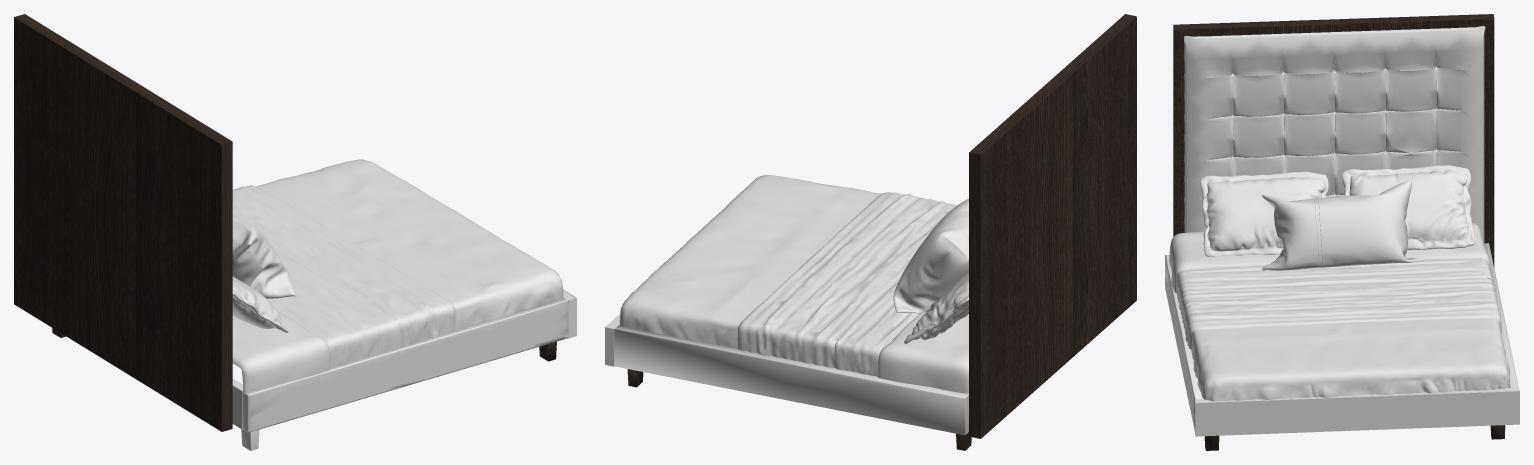
Rendered from sf_2bd3fcc82c9f.glb.
3 renders of one model, left to right at view 1: azimuth 30°, elevation 25°; view 2: azimuth 150°, elevation 25°; view 3: azimuth 270°, elevation 25°, orthographic. The views are drawn at different scales.
Visible parts, largest first — view 1: Cube_5_Wood 17_1, Box019_Mat.2_0, Box007_FABRIC_sofa_0; view 2: Box019_Mat.2_0, Cube_5_Wood 17_1, Box007_FABRIC_sofa_0; view 3: Box019_Mat.2_0, Plane001_001_1_FABRIC_sofa_1, Box007_FABRIC_sofa_0, Cube_5_Wood 17_1.
Part boxes in pixels (x1,y1,x2,y2): Cube_5_Wood 17_1: [14, 14, 556, 431]; Box019_Mat.2_0: [232, 159, 563, 392]; Box007_FABRIC_sofa_0: [232, 290, 576, 432]; Box019_Mat.2_0: [619, 175, 968, 393]; Cube_5_Wood 17_1: [627, 14, 1136, 438]; Box007_FABRIC_sofa_0: [605, 314, 968, 435]; Box019_Mat.2_0: [1169, 165, 1509, 401]; Plane001_001_1_FABRIC_sofa_1: [1184, 26, 1485, 242]; Box007_FABRIC_sofa_0: [1165, 243, 1519, 436]; Cube_5_Wood 17_1: [1173, 14, 1505, 450].
Bounding box in the file's own units: 2436 × 1861 × 2173.
Materials: 4 (1 with a texture image).
